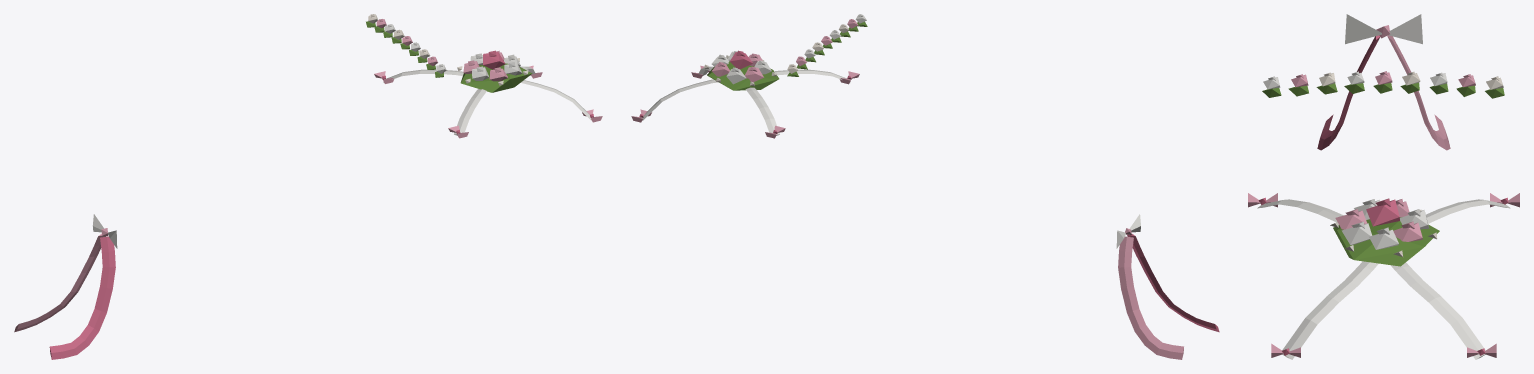
Rendered from gd_car_weddingflowers.glb.
3 views of the same model, side by side, from view 1: azimuth 30°, elevation 25°; view 2: azimuth 150°, elevation 25°; view 3: azimuth 270°, elevation 25° (orthographic). The views are drawn at different scales.
Visible parts, largest first — view 1: base; view 2: base; view 3: base.
Part boxes in pixels (box(x1,y1,x2,y2)): base: box(14, 14, 602, 359); base: box(631, 14, 1219, 359); base: box(1248, 14, 1519, 359).
Bounding box in the file's own units: 1.08 × 0.424 × 0.292.
